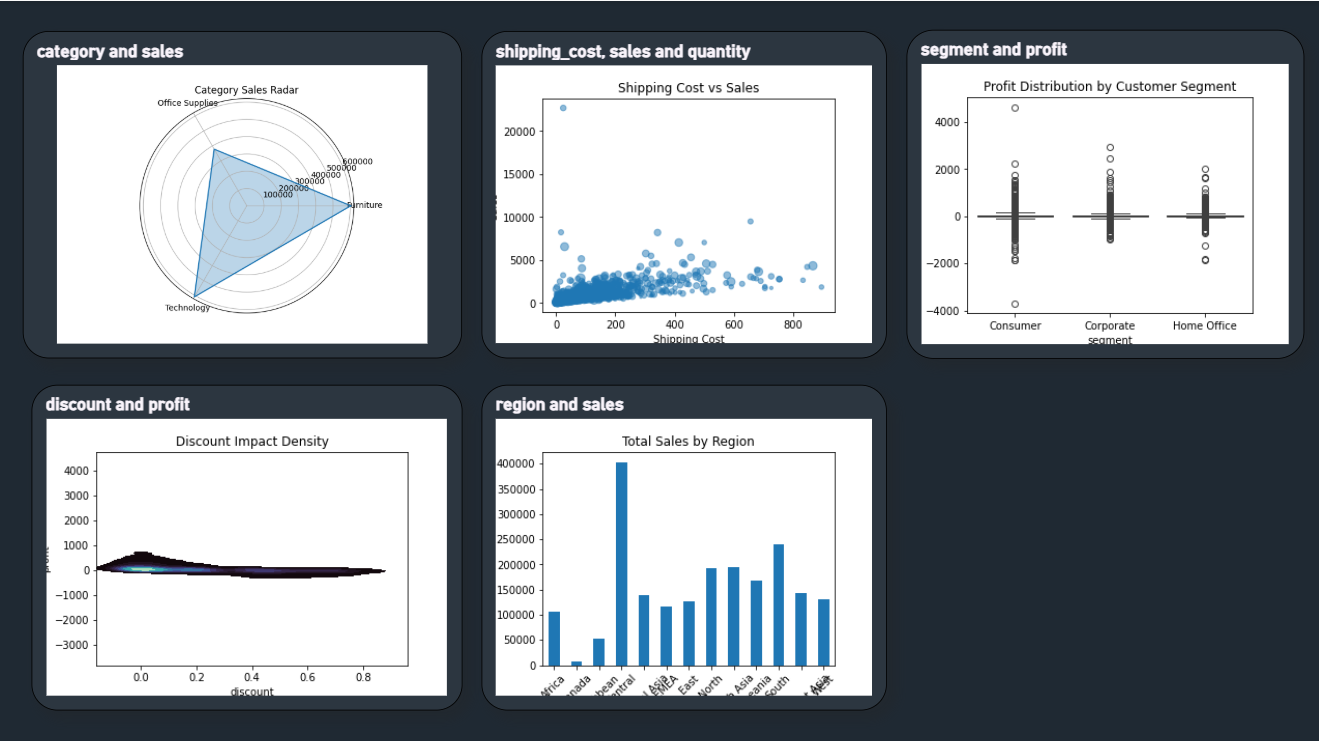

The page's visual inventory and layout, read from the dashboard file:
{"tool":"powerbi","page":{"name":"Page 3","canvas":[1280,720],"ordinal":2},"visuals":[{"type":"pythonVisual","fields":{"Values":["superstore_db superstore.category","superstore_db superstore.sales"]},"box":[22.9,28.6,424.3,315.7],"z":0},{"type":"pythonVisual","fields":{"Values":["superstore_db superstore.discount","superstore_db superstore.profit"]},"box":[31.4,370,415.7,314.3],"z":1000},{"type":"pythonVisual","fields":{"Values":["superstore_db superstore.region","superstore_db superstore.sales"]},"box":[465.7,370,391.4,314.3],"z":2000},{"type":"pythonVisual","fields":{"Values":["superstore_db superstore.segment","superstore_db superstore.profit"]},"box":[876.2,27.5,383.8,317.5],"z":3000},{"type":"pythonVisual","fields":{"Values":["superstore_db superstore.shipping_cost","superstore_db superstore.sales","superstore_db superstore.quantity"]},"box":[465.7,28.6,391.4,315.7],"z":4000}]}

Visuals, with their boxes in screenshot pixels (x1, y1, x2, y2), scaled from the page's 1280x720 canvas onto the 1319x741 screenshot:
pythonVisual - superstore_db superstore.category x superstore_db superstore.sales: pyautogui.locateOnScreen(24, 29, 461, 354)
pythonVisual - superstore_db superstore.discount x superstore_db superstore.profit: pyautogui.locateOnScreen(32, 381, 461, 704)
pythonVisual - superstore_db superstore.region x superstore_db superstore.sales: pyautogui.locateOnScreen(480, 381, 883, 704)
pythonVisual - superstore_db superstore.segment x superstore_db superstore.profit: pyautogui.locateOnScreen(903, 28, 1298, 355)
pythonVisual - superstore_db superstore.shipping_cost x superstore_db superstore.sales: pyautogui.locateOnScreen(480, 29, 883, 354)
